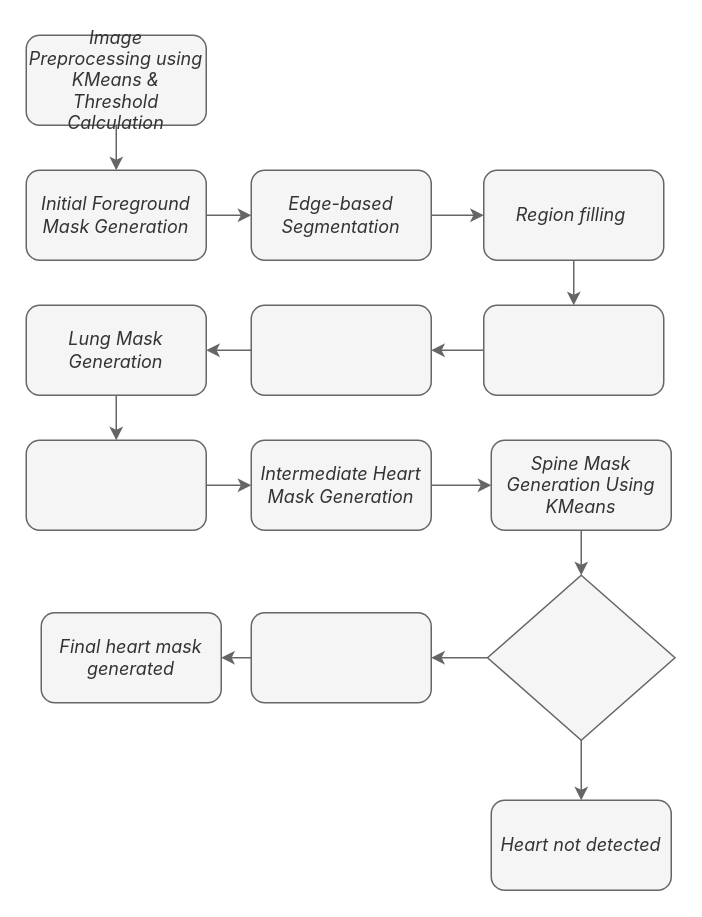
Some shapes in this 702 by 917 pixel diagram are drawn without their labels. Each missing label, with the box of its shape:
(Heart Area/Spine Area) > 0.5?: (486, 574, 675, 740)
Convex Hull of Lung Mask Generation: (25, 439, 206, 530)
Convex Hull of Spine Mask Generation using Geometric Region Properties: (250, 611, 431, 703)
Enhanced Image Generation: (482, 304, 664, 395)
Trachea Mask Generation using Region Areas: (250, 304, 431, 395)
